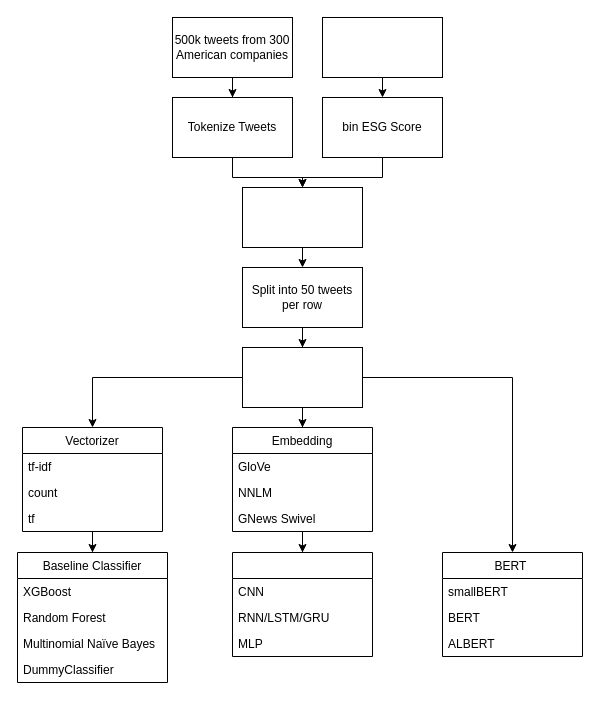
Image size: 600x703. Some labels were removed from this diagram. The box of each missing label's shape, as (x1, y1, x2, y2) in pixels:
DNN Architectures: (232, 552, 372, 656)
EDA: (242, 346, 362, 408)
INNER JOIN: (242, 186, 362, 248)
Yahoo finance ESG data: (322, 16, 442, 78)
